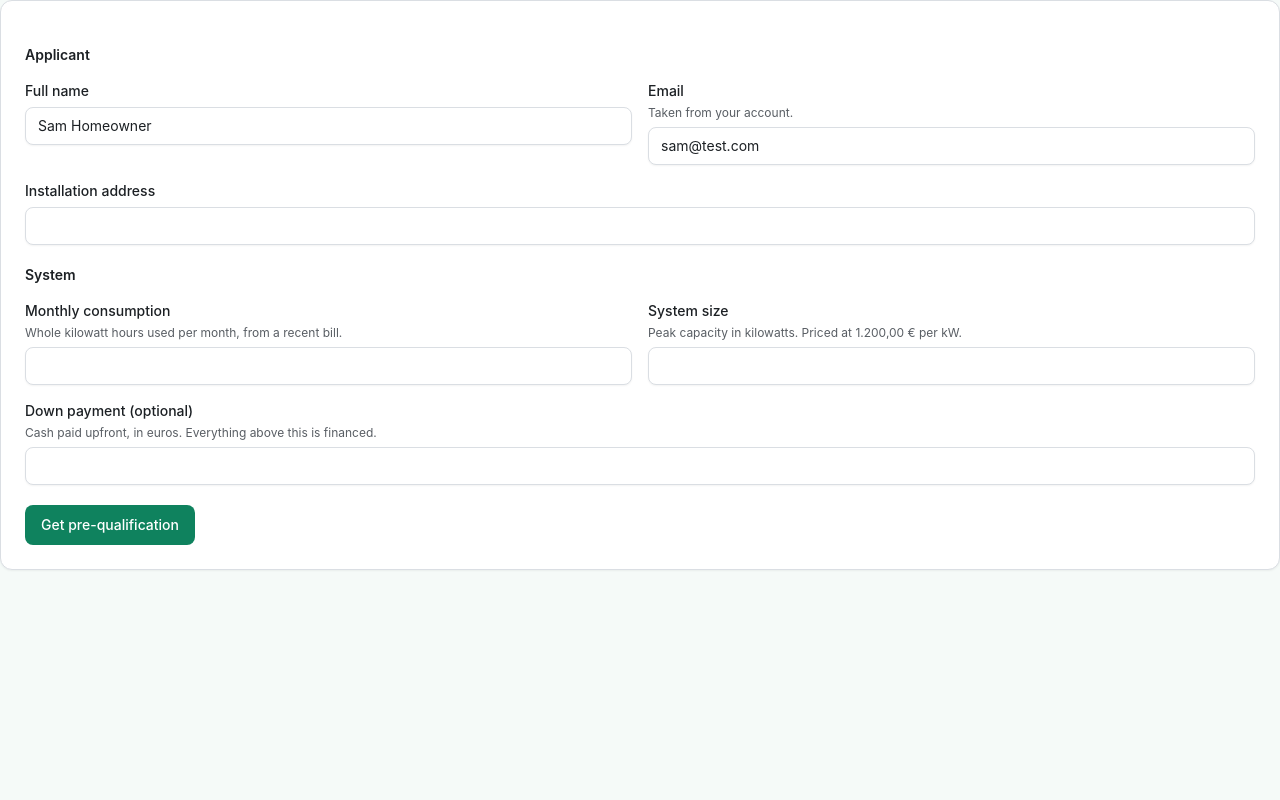
QuoteForm › surfaces a server-side field error on the field it belongs to
Type "Hauptstrasse 1, 10115 Berlin" into the field labelled "Installation address" at (640, 226), box [25,207,1255,245]
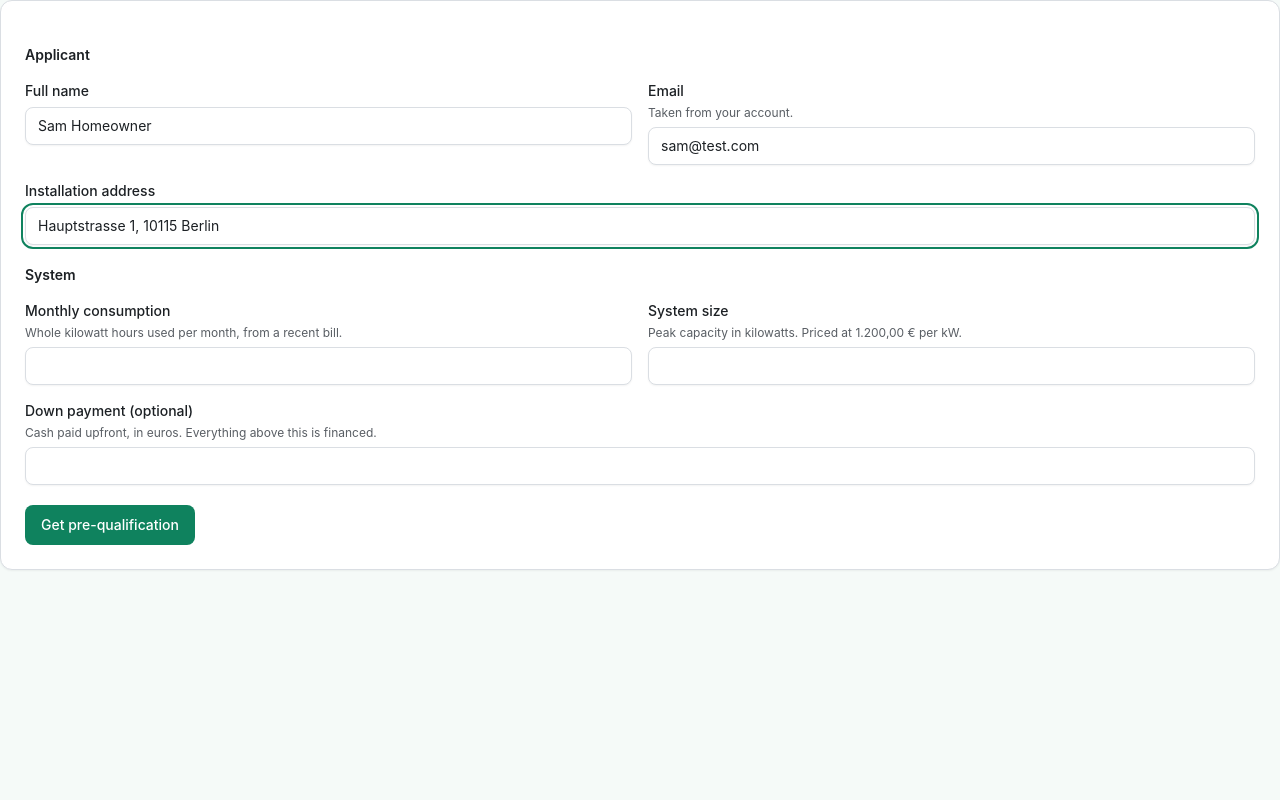
Type "450" into the number field labelled "Monthly consumption" at (328, 366), box [25,347,632,385]
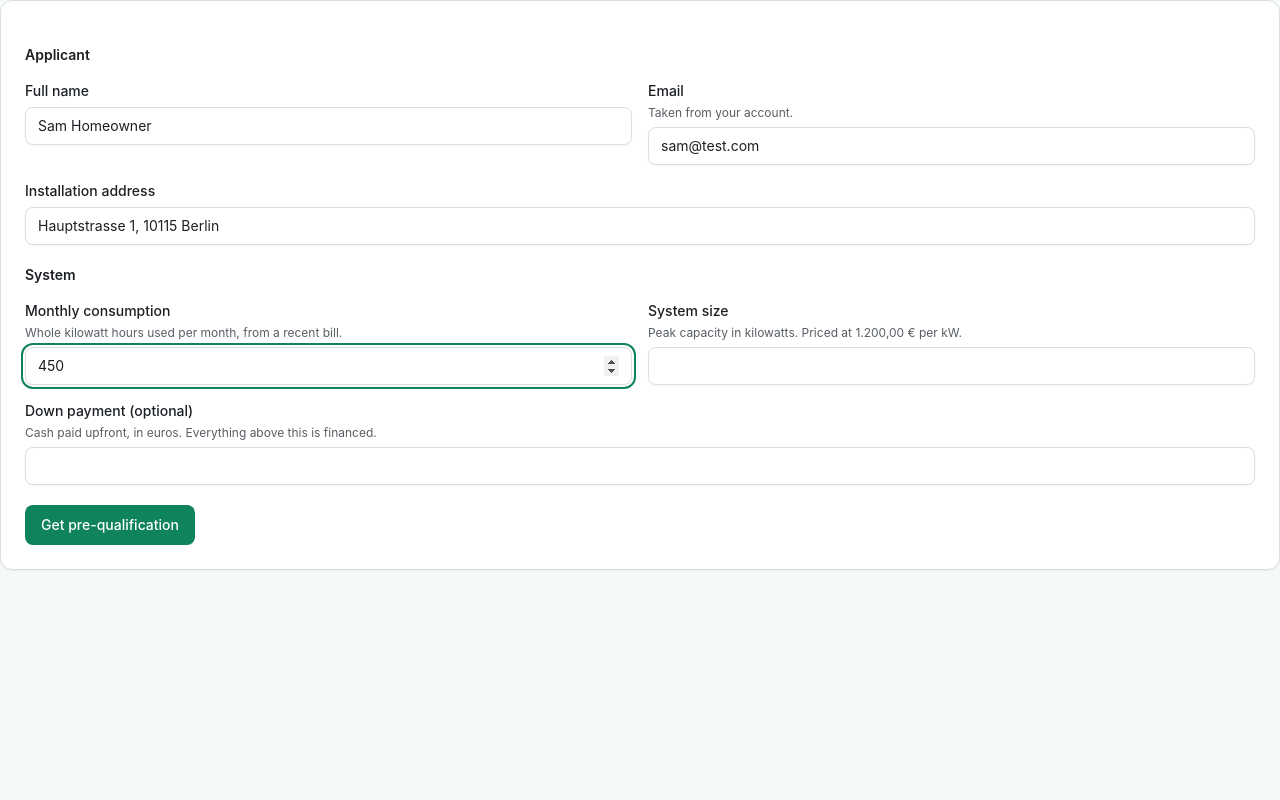
Type "6" into the number field labelled "System size" at (952, 366), box [648,347,1255,385]
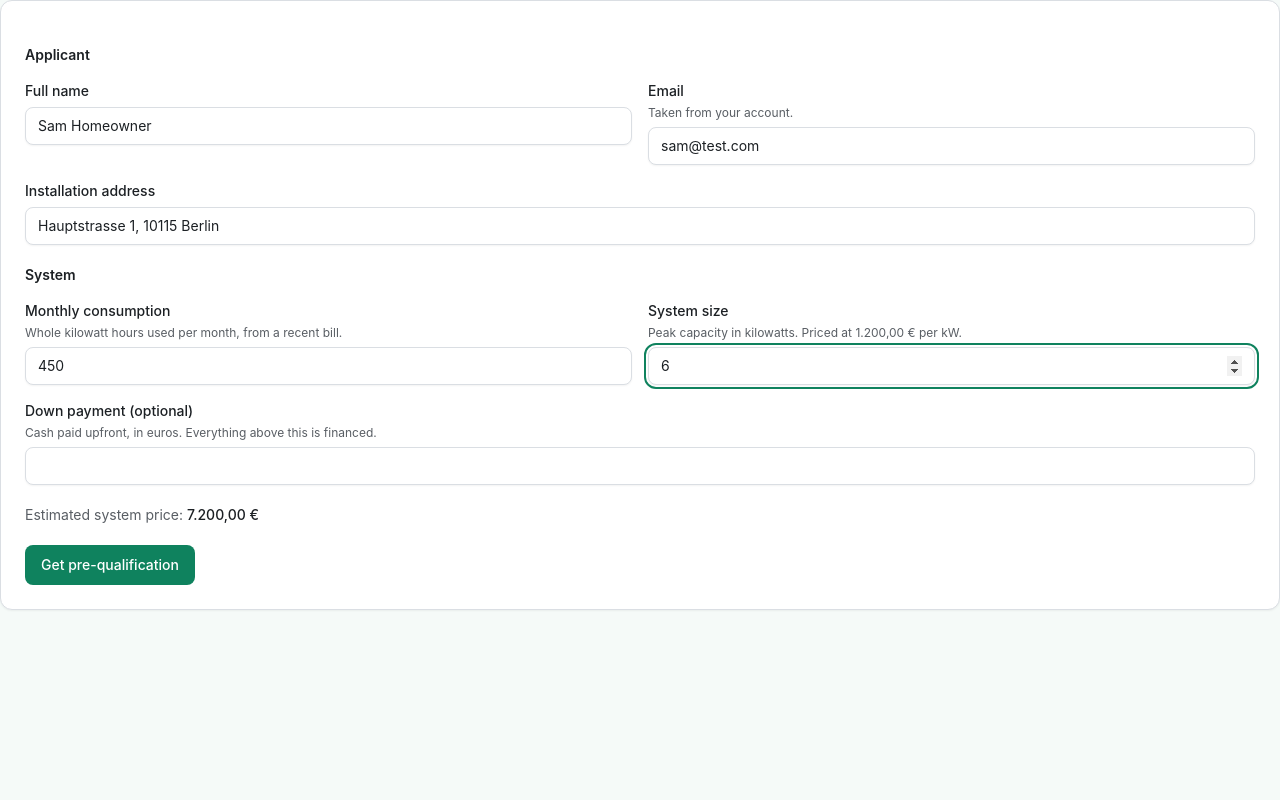
Click the button "Get pre-qualification" at (110, 565), box [25,545,195,585]
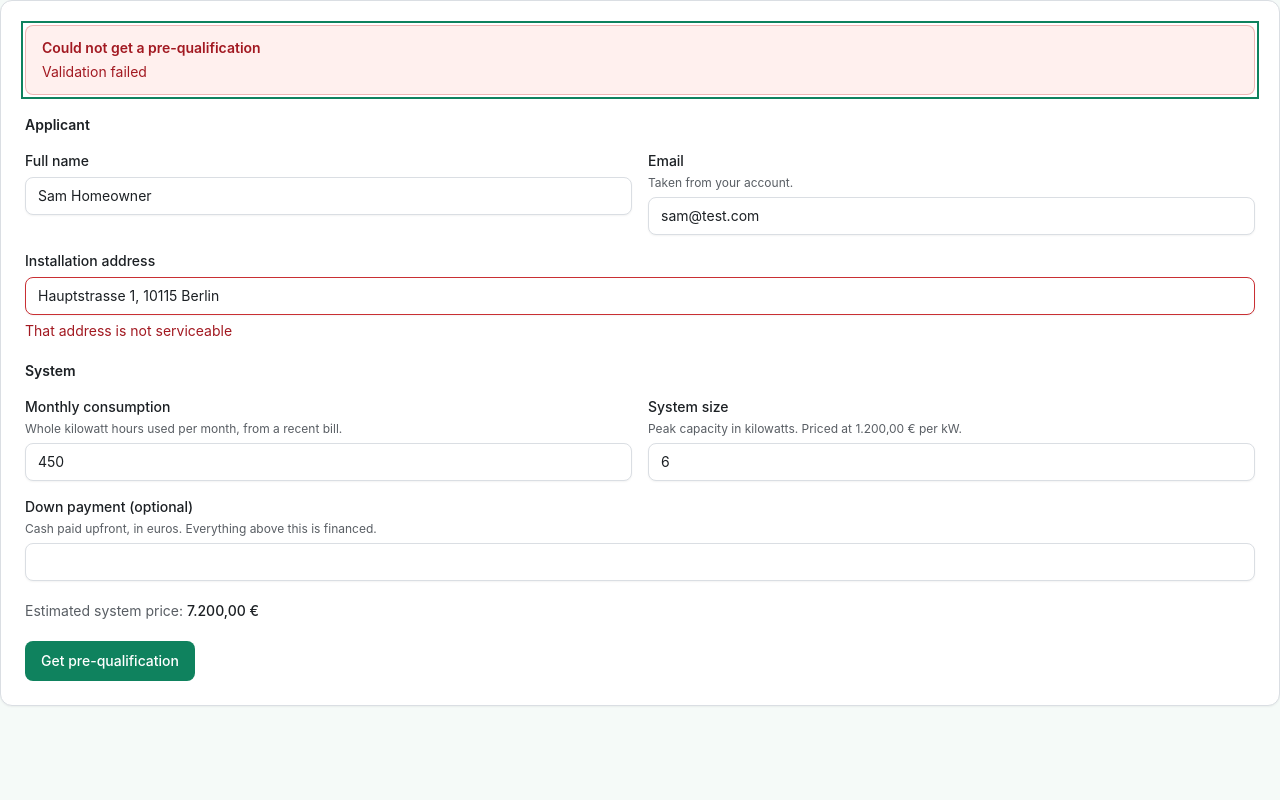
Now the text "That address is not serviceable" is shown, box [25,322,232,339]
Now the message shows "Validation failed", box [42,63,147,80]
